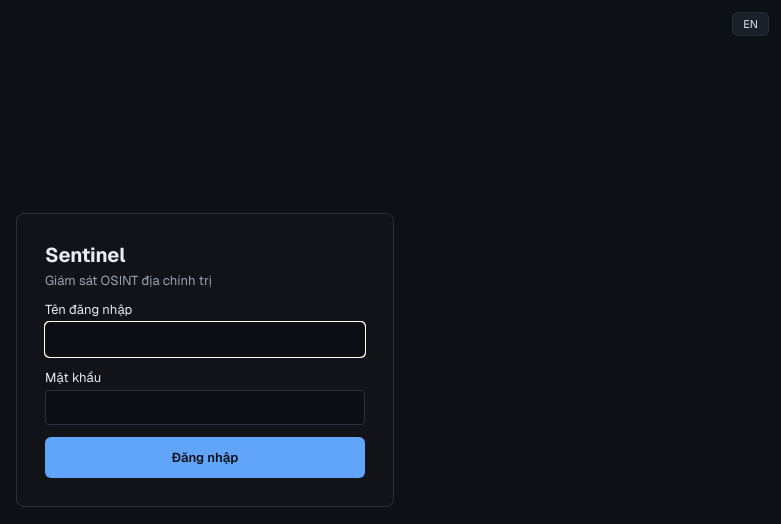
Test case: LoginPage › disables submit while the request is in flight
The width and height of the screenshot is (781, 524).
In the field labelled "Tên đăng nhập": (205, 340) [45, 322, 365, 357], type "admin"
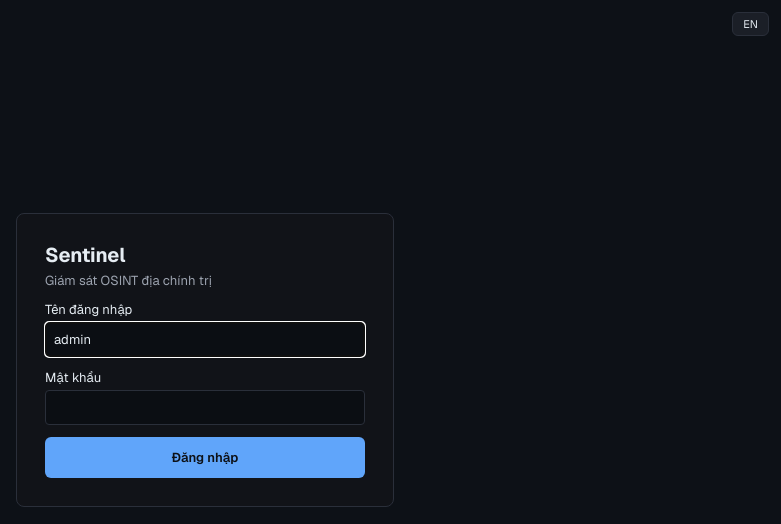
In the password field labelled "Mật khẩu": (205, 408) [45, 390, 365, 425], type "wrong"
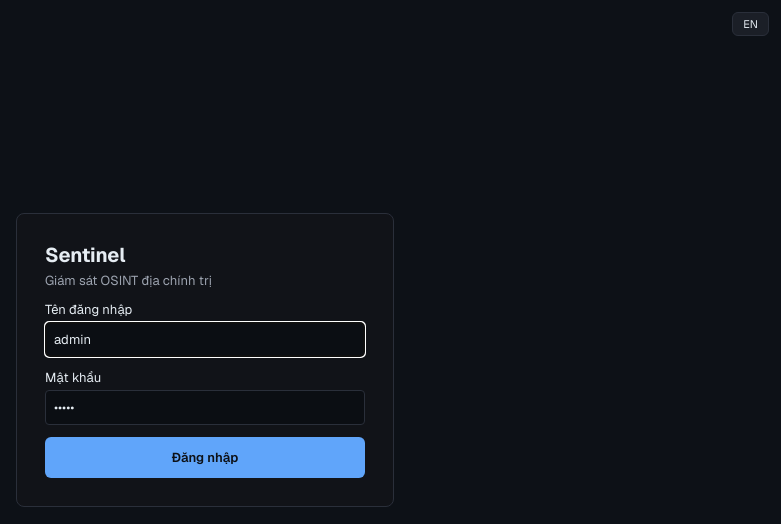
Click the button "Đăng nhập": (205, 458) [45, 437, 365, 478]
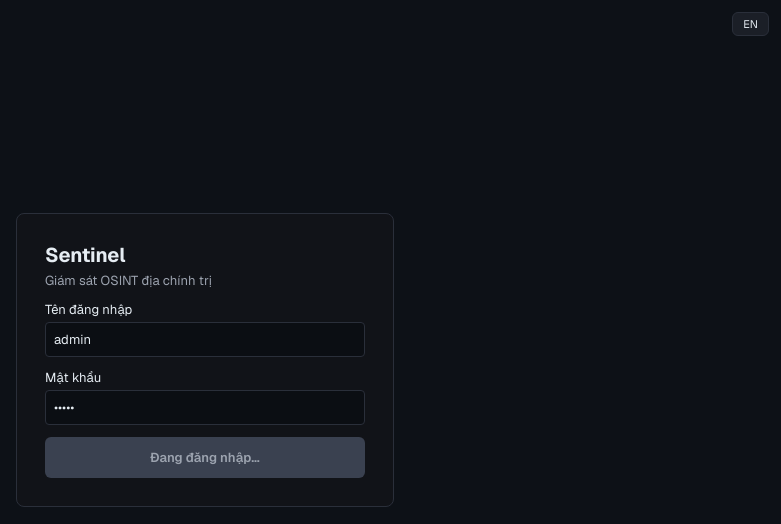
Check: the button "Đang đăng nhập…" is disabled, box [45, 437, 365, 478]
